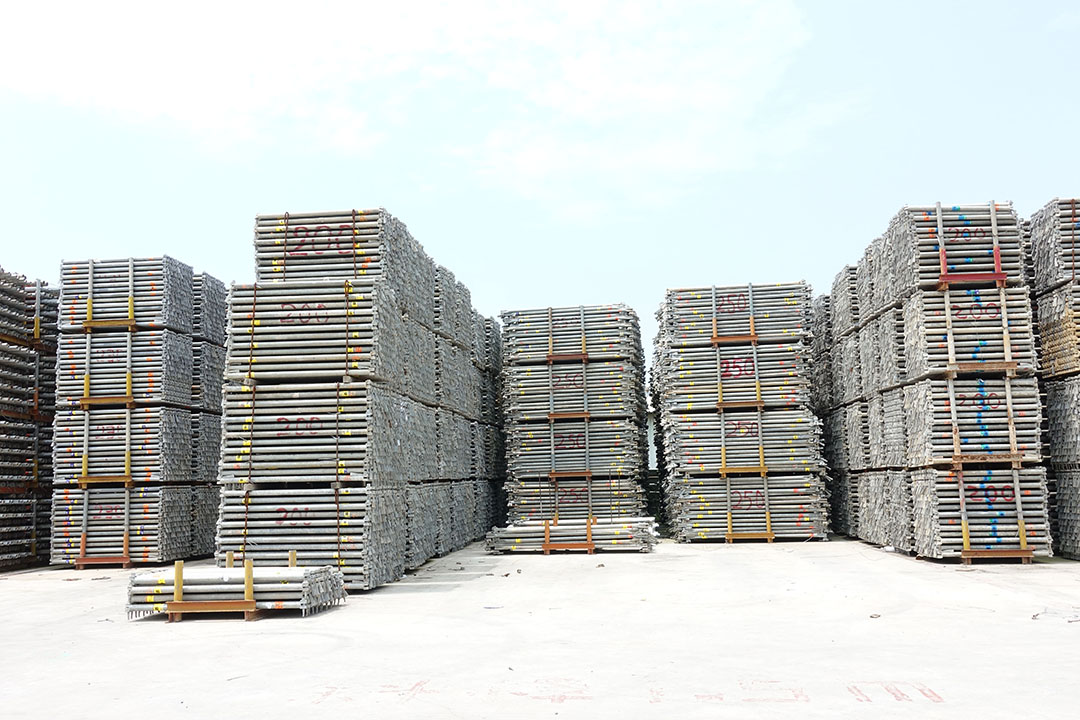building materials: (216, 383, 370, 490), (215, 490, 371, 594), (224, 279, 373, 385), (932, 469, 1054, 565), (926, 379, 1045, 469), (920, 289, 1037, 378), (909, 201, 1027, 289), (667, 411, 820, 477), (672, 477, 825, 543), (665, 281, 810, 347), (252, 206, 382, 278), (667, 346, 811, 411), (47, 489, 160, 570), (55, 254, 168, 333), (504, 480, 642, 544), (50, 411, 164, 488), (54, 330, 165, 409), (504, 301, 629, 364), (503, 422, 636, 480), (503, 363, 631, 422)
